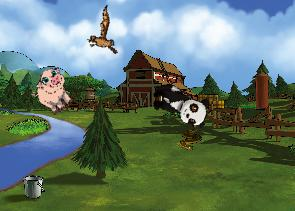eagle: (76, 5, 130, 63)
panda: (146, 79, 213, 130)
pig: (26, 63, 81, 119)
